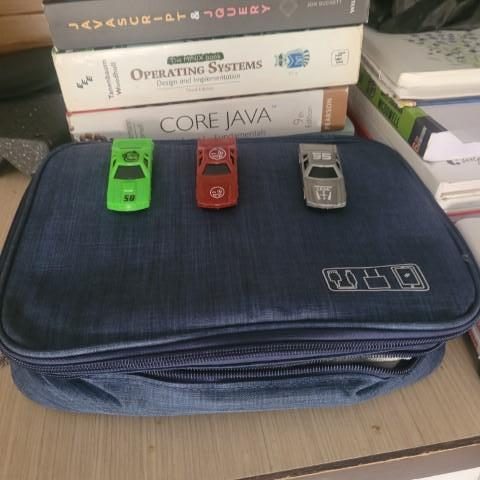car: (101, 131, 158, 216), (292, 136, 350, 219), (192, 131, 244, 214)
